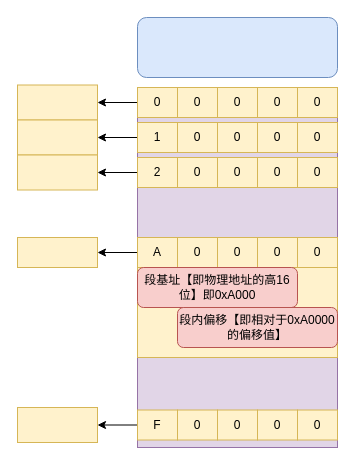
The diagram is 355 pixels wide and 465 high, and some of its shapes have lost their labels. Here are the shapes that lost their labels. From the top down, the centre of each, then its label:
At point (237, 47): "实际物理地址= 段基址 << 4 + 段内偏移".
At point (57, 102): "第1段".
At point (57, 137): "第2段".
At point (57, 172): "第3段".
At point (57, 252): "第10段".
At point (57, 424): "第16段".
